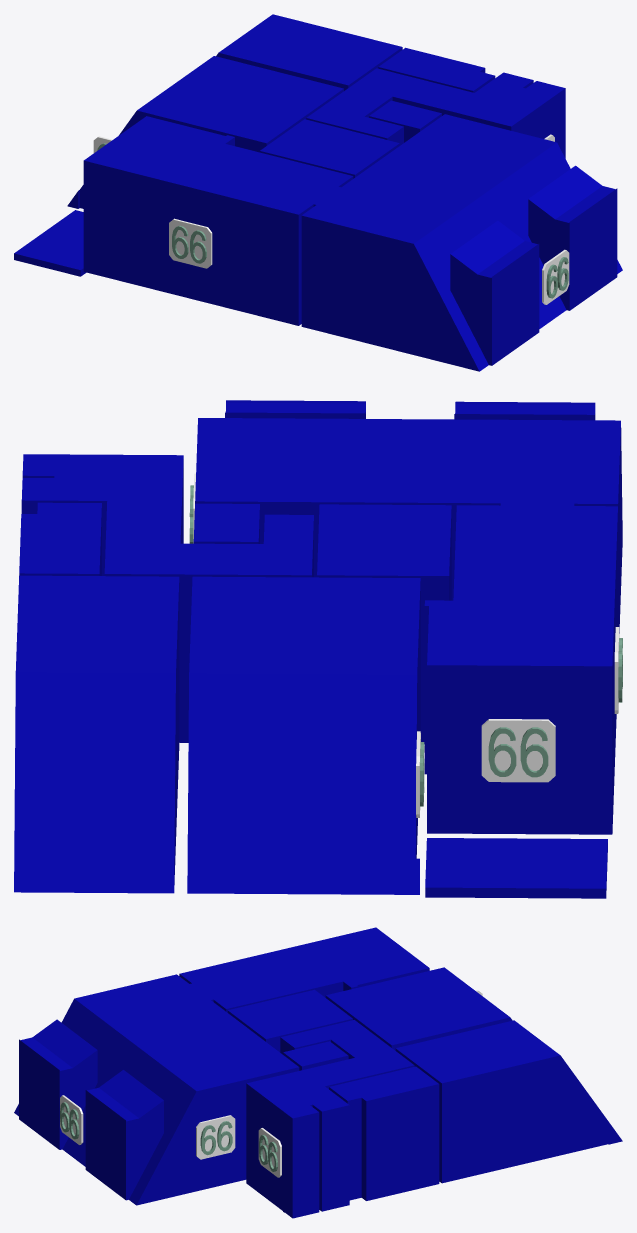
The picture shows the model from 3 angles, top to bottom: view 1: azimuth 30°, elevation 25°; view 2: azimuth 150°, elevation 25°; view 3: azimuth 270°, elevation 25°; orthographic projection. The views are drawn at different scales.
Visible parts, largest first — view 1: g_0, g_1, g_2, g_5, g_3, g_4, g_8, g_7, g_6, g_23, g_17; view 2: g_2, g_1, g_3, g_0, g_5, g_4, g_8, g_7, g_26, g_6, g_25, g_24; view 3: g_0, g_3, g_5, g_7, g_1, g_2, g_4, g_6, g_11, g_17, g_20.
Boxes of the visible parts, x1=… form: g_0: x1=301, y1=114, x2=622, y2=371; g_1: x1=83, y1=116, x2=353, y2=325; g_2: x1=67, y1=56, x2=343, y2=208; g_5: x1=306, y1=68, x2=565, y2=158; g_3: x1=216, y1=14, x2=402, y2=90; g_4: x1=260, y1=119, x2=399, y2=178; g_8: x1=14, y1=210, x2=86, y2=276; g_7: x1=378, y1=47, x2=495, y2=92; g_6: x1=369, y1=100, x2=441, y2=142; g_23: x1=169, y1=218, x2=212, y2=268; g_17: x1=542, y1=249, x2=569, y2=304; g_2: x1=187, y1=576, x2=420, y2=894; g_1: x1=424, y1=504, x2=617, y2=834; g_3: x1=14, y1=575, x2=179, y2=893; g_0: x1=195, y1=400, x2=622, y2=633; g_5: x1=21, y1=454, x2=313, y2=742; g_4: x1=317, y1=504, x2=451, y2=743; g_8: x1=425, y1=838, x2=607, y2=898; g_7: x1=19, y1=502, x2=101, y2=575; g_26: x1=481, y1=719, x2=555, y2=782; g_6: x1=193, y1=503, x2=259, y2=543; g_25: x1=520, y1=727, x2=548, y2=777; g_24: x1=488, y1=727, x2=516, y2=776; g_0: x1=14, y1=974, x2=299, y2=1205; g_3: x1=395, y1=1020, x2=622, y2=1183; g_5: x1=246, y1=1020, x2=414, y2=1218; g_7: x1=329, y1=1066, x2=439, y2=1200; g_1: x1=179, y1=927, x2=429, y2=1012; g_2: x1=325, y1=967, x2=512, y2=1050; g_4: x1=227, y1=989, x2=352, y2=1052; g_6: x1=283, y1=1041, x2=348, y2=1070; g_11: x1=196, y1=1115, x2=235, y2=1159; g_17: x1=60, y1=1095, x2=83, y2=1144; g_20: x1=258, y1=1128, x2=281, y2=1177.
Bounding box in the file's own units: 11.21 × 2.71 × 14.04.
